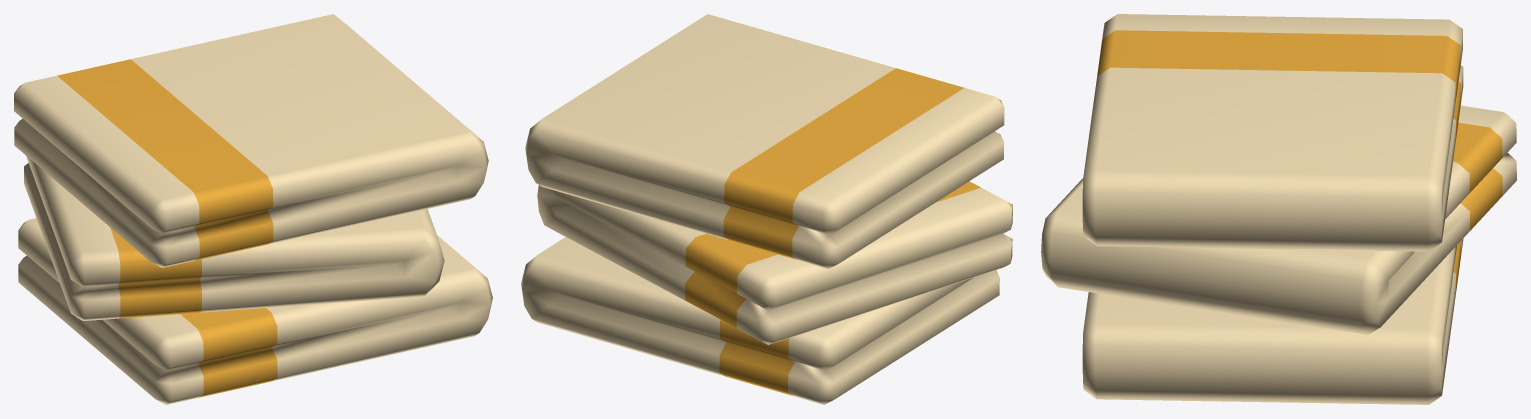
Rendered from towels.fbx.
The picture shows the model from 3 angles, left to right: view 1: azimuth 30°, elevation 25°; view 2: azimuth 150°, elevation 25°; view 3: azimuth 270°, elevation 25°; orthographic projection. The views are drawn at different scales.
Parts seen in each view (by area): view 1: Mat__M_Cnsw_58_MidSet_Obj_Towel.001; view 2: Mat__M_Cnsw_58_MidSet_Obj_Towel.001; view 3: Mat__M_Cnsw_58_MidSet_Obj_Towel.001.
Boxes of the visible parts, box(x1,y1,x2,y2) form: Mat__M_Cnsw_58_MidSet_Obj_Towel.001: box(14, 14, 492, 404); Mat__M_Cnsw_58_MidSet_Obj_Towel.001: box(521, 14, 1012, 404); Mat__M_Cnsw_58_MidSet_Obj_Towel.001: box(1041, 14, 1516, 404).
Size of the model in its own units: 7091 by 3584 by 6662.
